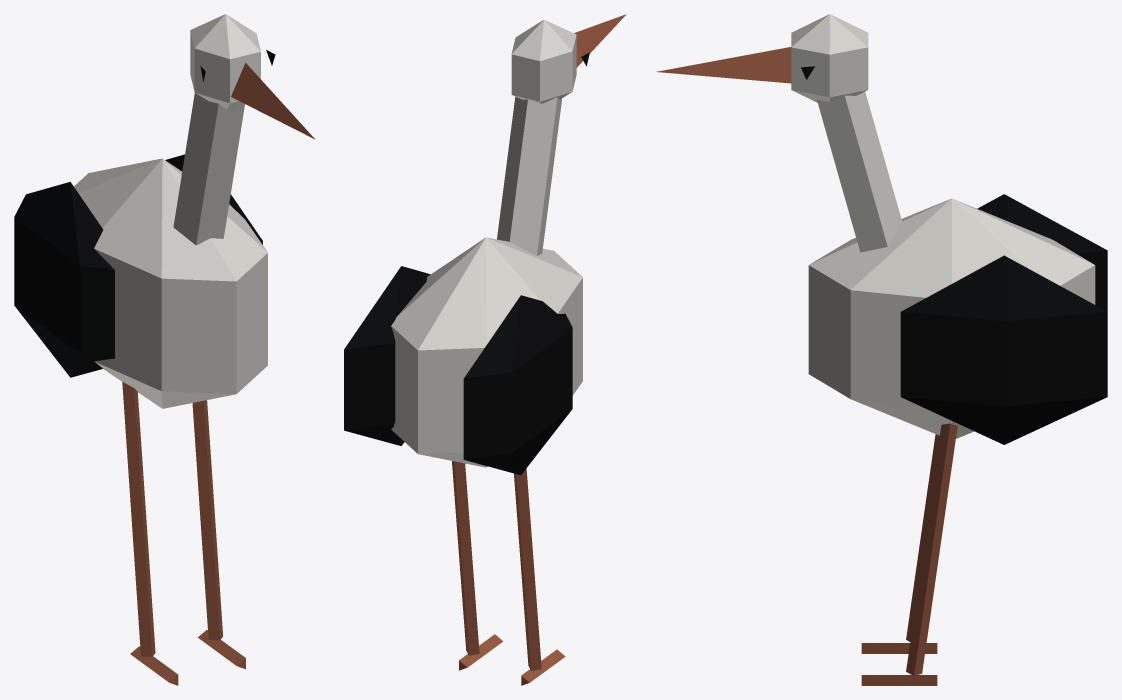
Rendered from stork.glb.
3 views of the same model, side by side, from view 1: azimuth 30°, elevation 25°; view 2: azimuth 150°, elevation 25°; view 3: azimuth 270°, elevation 25° (orthographic). The views are drawn at different scales.
Parts seen in each view (by area): view 1: stork_body, stork_neck; view 2: stork_body, stork_neck; view 3: stork_body, stork_neck.
Part boxes in pixels (left/top/right/bottom): stork_body: left=14, top=154, right=267, bottom=685; stork_neck: left=173, top=14, right=314, bottom=245; stork_body: left=344, top=237, right=582, bottom=685; stork_neck: left=497, top=14, right=626, bottom=255; stork_body: left=808, top=194, right=1107, bottom=685; stork_neck: left=656, top=14, right=901, bottom=252.
Bounding box in the file's own units: 0.1166 × 0.4141 × 0.2593.
